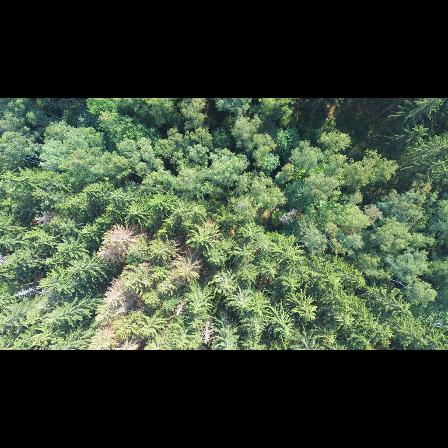Dead: (95, 224, 138, 262), (104, 274, 136, 316), (278, 208, 299, 223)
